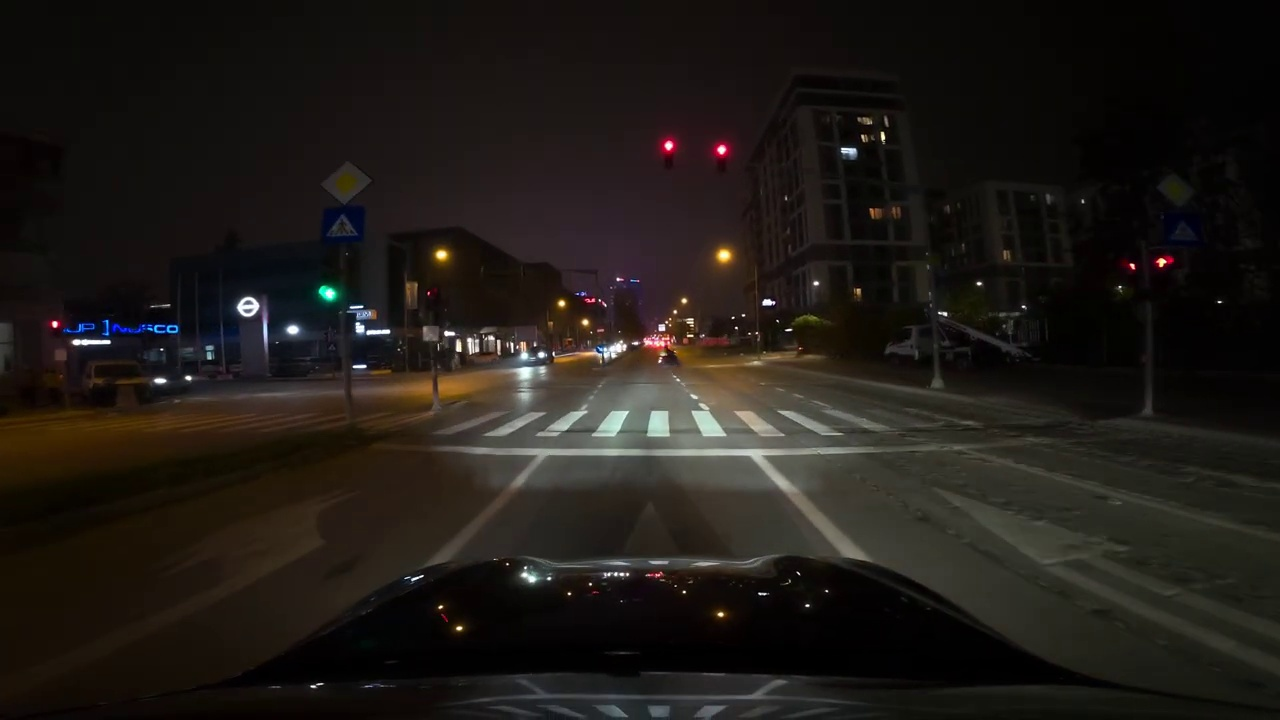acesa: (333, 167, 360, 194), (430, 245, 454, 269), (713, 244, 736, 268), (710, 139, 732, 162)
